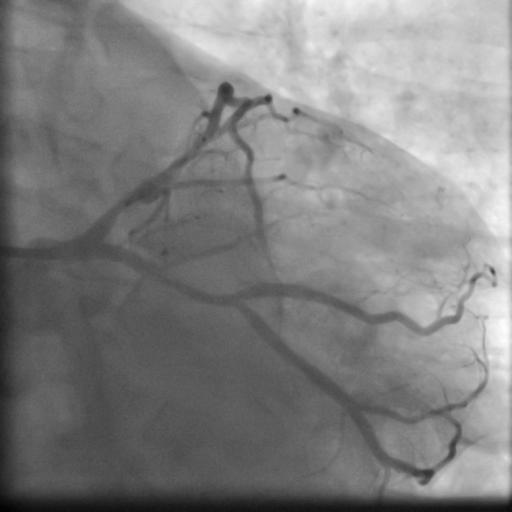Stenosis: (102, 187, 139, 213)
